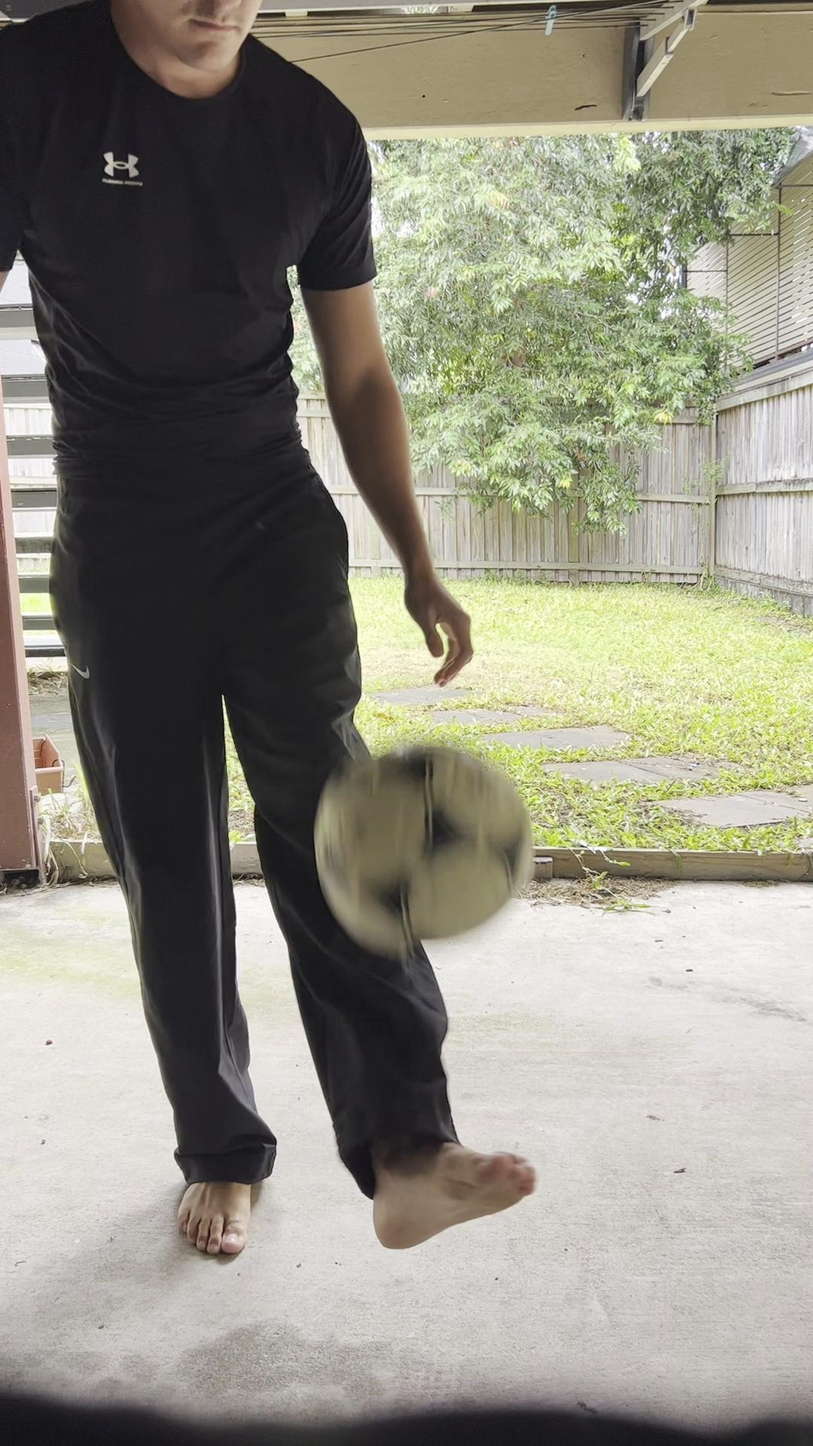ball: (313, 743, 536, 950)
foot: (369, 1130, 536, 1252), (173, 1170, 258, 1264)
person: (0, 0, 531, 1261)
